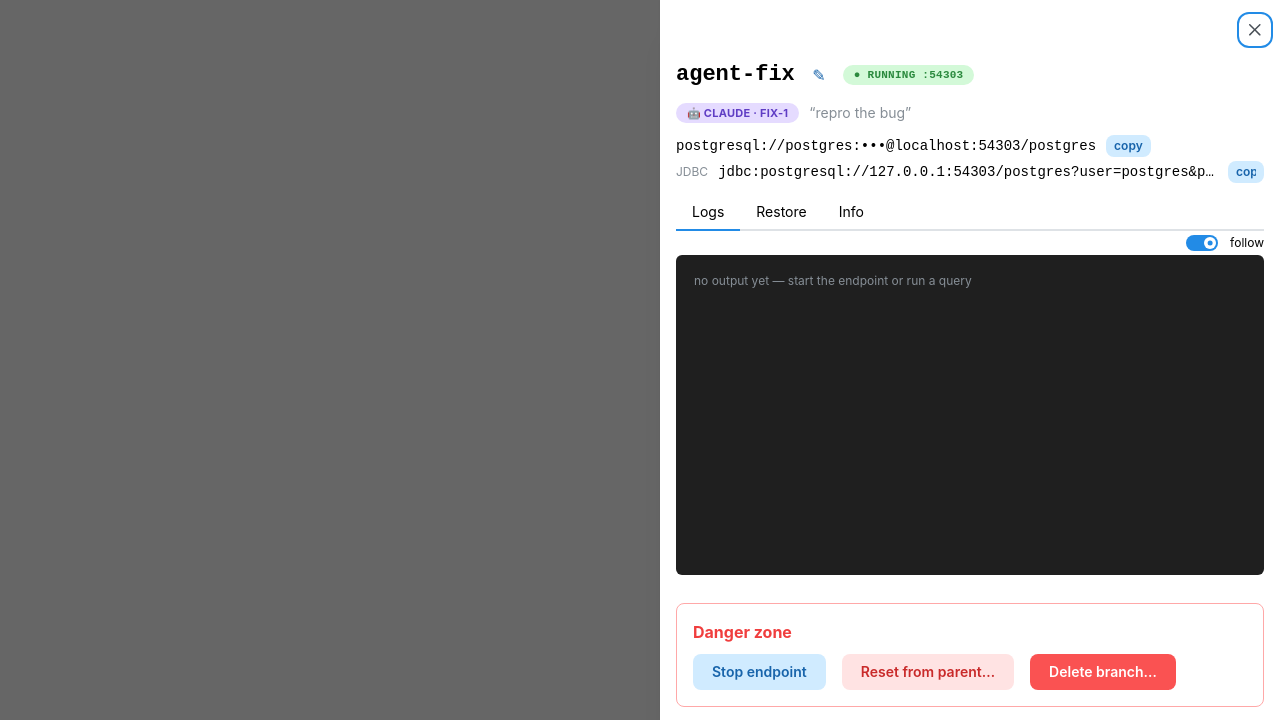
Scenario: BranchDrawer › shows fork context and Info metadata
Expected: the text "“repro the bug”" is shown, left=809, top=103, right=911, bottom=123
Click the tab "Info". click: coordinates (851, 213)
box: left=823, top=195, right=880, bottom=231
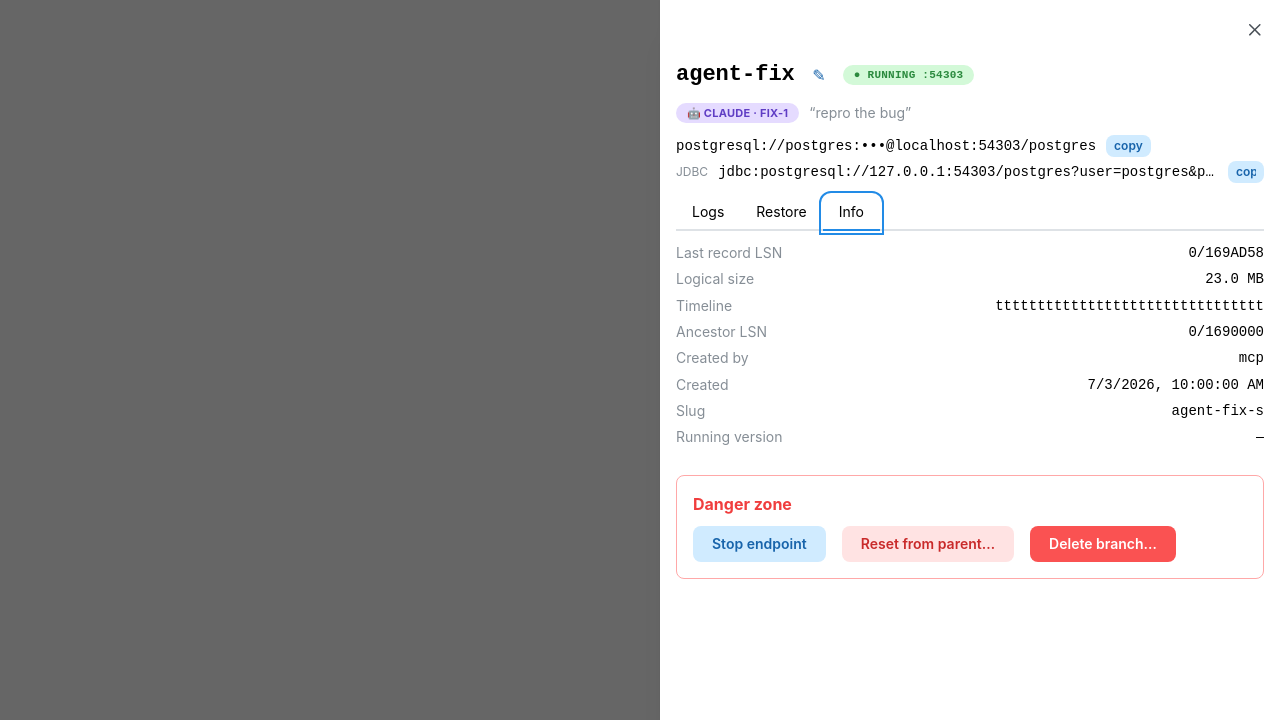
Expected: the text "0/169AD58" is shown, left=1188, top=243, right=1264, bottom=263
Expected: the text "23.0 MB" is shown, left=1205, top=269, right=1264, bottom=290
